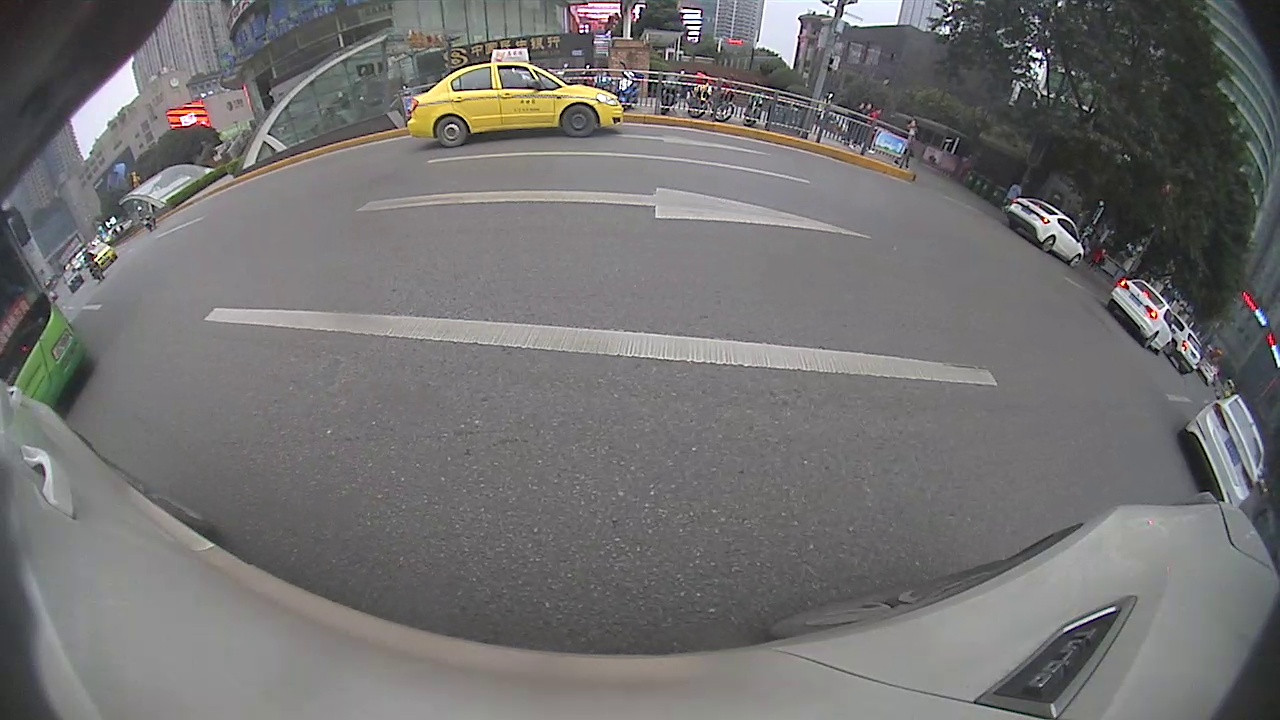car: (403, 47, 626, 151), (1176, 393, 1268, 513), (1005, 195, 1086, 268), (1105, 275, 1176, 357)
front: (561, 104, 600, 142)
rear: (434, 116, 470, 151), (1040, 236, 1057, 253)
